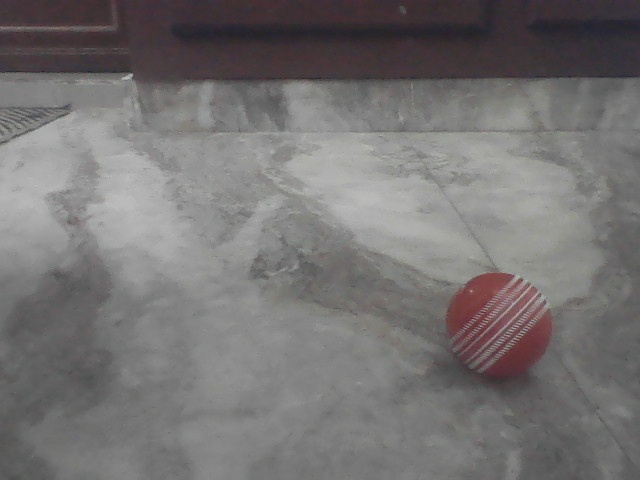cricket_ball: (436, 267, 555, 382)
